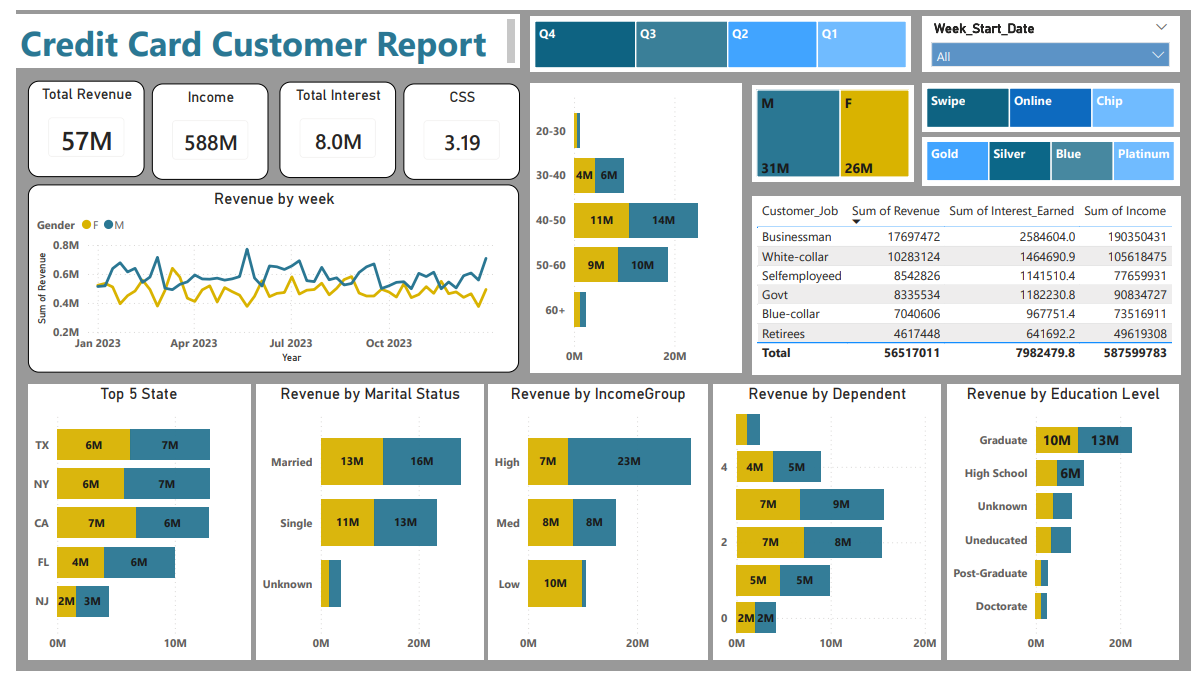

Layout of this report page (visuals, bound fields, positions):
{"tool":"powerbi","page":{"name":"CC customer","canvas":[1280,720],"ordinal":1},"visuals":[{"type":"textbox","box":[0,5,548.3,58.3],"z":0},{"type":"barChart","title":"Revenue by IncomeGroup","fields":{"Y":["Sum(ccdb cc_detail.Revenue)"],"Category":["ccdb cust_detail.IncomeGroup"],"Series":["ccdb cust_detail.Gender"]},"box":[515,408.3,239,300],"z":1000},{"type":"tableEx","title":"Revenue by week","fields":{"Values":["ccdb cust_detail.Customer_Job","Sum(ccdb cc_detail.Revenue)","Sum(ccdb cc_detail.Interest_Earned)","Sum(ccdb cust_detail.Income)"]},"box":[801.7,203.3,467,194],"z":2000},{"type":"cardVisual","title":"Total Revenue","fields":{"Data":["Sum(ccdb cc_detail.Revenue)"]},"box":[13.3,76.7,127,105],"z":3000},{"type":"cardVisual","title":"Income","fields":{"Data":["Sum(ccdb cust_detail.Income)"]},"box":[148.3,80,127,105],"z":4000},{"type":"cardVisual","title":"Total Interest","fields":{"Data":["Sum(ccdb cc_detail.Interest_Earned)"]},"box":[286.7,78.3,127,105],"z":5000},{"type":"cardVisual","title":"CSS","fields":{"Data":["Avg(ccdb cust_detail.Cust_Satisfaction_Score)"]},"box":[421.7,80,127,105],"z":6000},{"type":"slicer","fields":{"Values":["ccdb cc_detail.Week_Start_Date"]},"box":[986.7,6.7,280,61.7],"z":7000},{"type":"treemap","fields":{"Group":["ccdb cc_detail.Qtr"],"Values":["Avg(ccdb cc_detail.Client_Num)"]},"box":[560,6.7,415,61.7],"z":8000},{"type":"treemap","fields":{"Group":["ccdb cc_detail.Card_Category"],"Values":["Avg(ccdb cc_detail.Client_Num)"]},"box":[986.7,138.3,280,53],"z":9000},{"type":"lineChart","title":"Revenue by week","fields":{"Y":["Sum(ccdb cc_detail.Revenue)"],"Category":["ccdb cc_detail.Week_Start_Date.Variation.Date Hierarchy.Year","ccdb cc_detail.Week_Start_Date.Variation.Date Hierarchy.Quarter","ccdb cc_detail.Week_Start_Date.Variation.Date Hierarchy.Month","ccdb cc_detail.Week_Start_Date.Variation.Date Hierarchy.Day"],"Series":["ccdb cust_detail.Gender"]},"box":[13.3,190,535,205],"z":10000},{"type":"treemap","fields":{"Group":["ccdb cust_detail.Gender"],"Values":["Sum(ccdb cc_detail.Revenue)"]},"box":[801.7,81.7,176,105],"z":11000},{"type":"barChart","title":"Revenue by AgeGroup","fields":{"Y":["Sum(ccdb cc_detail.Revenue)"],"Category":["ccdb cust_detail.AgeGroup"],"Series":["ccdb cust_detail.Gender"]},"box":[560,80,230,315],"z":12000},{"type":"barChart","title":"Revenue by Dependent ","fields":{"Y":["Sum(ccdb cc_detail.Revenue)"],"Category":["ccdb cust_detail.Dependent_Count"],"Series":["ccdb cust_detail.Gender"]},"box":[760,408.3,248,300],"z":13000},{"type":"barChart","title":"Revenue by Education Level","fields":{"Y":["Sum(ccdb cc_detail.Revenue)"],"Category":["ccdb cust_detail.Education_Level"],"Series":["ccdb cust_detail.Gender"]},"box":[1015,408.3,251.7,300],"z":14000},{"type":"barChart","title":"Top 5 State","fields":{"Y":["Sum(ccdb cc_detail.Revenue)"],"Category":["ccdb cust_detail.State_cd"],"Series":["ccdb cust_detail.Gender"]},"box":[13.3,408.3,242,300],"z":15000},{"type":"barChart","title":"Revenue by Marital Status","fields":{"Y":["Sum(ccdb cc_detail.Revenue)"],"Category":["ccdb cust_detail.Marital_Status"],"Series":["ccdb cust_detail.Gender"]},"box":[261.7,408.3,248,300],"z":16000},{"type":"treemap","fields":{"Group":["ccdb cc_detail.Use_Chip"],"Values":["Avg(ccdb cc_detail.Client_Num)"]},"box":[986.7,80,280,53.3],"z":17000}]}

Visuals, with their boxes in screenshot pixels (x1, y1, x2, y2), scaled from the page's 1280x720 canvas onto the 1203x680 screenshot:
textbox: <box>0,5,515,60</box>
"Revenue by IncomeGroup" barChart: <box>484,386,709,669</box>
"Revenue by week" tableEx: <box>753,192,1192,375</box>
"Total Revenue" cardVisual: <box>12,72,132,172</box>
"Income" cardVisual: <box>139,76,259,175</box>
"Total Interest" cardVisual: <box>269,74,389,173</box>
"CSS" cardVisual: <box>396,76,516,175</box>
slicer - ccdb cc_detail.Week_Start_Date: <box>927,6,1191,65</box>
treemap - ccdb cc_detail.Qtr x Avg(ccdb cc_detail.Client_Num): <box>526,6,916,65</box>
treemap - ccdb cc_detail.Card_Category x Avg(ccdb cc_detail.Client_Num): <box>927,131,1191,181</box>
"Revenue by week" lineChart: <box>12,179,515,373</box>
treemap - ccdb cust_detail.Gender x Sum(ccdb cc_detail.Revenue): <box>753,77,919,176</box>
"Revenue by AgeGroup" barChart: <box>526,76,742,373</box>
"Revenue by Dependent " barChart: <box>714,386,947,669</box>
"Revenue by Education Level" barChart: <box>954,386,1191,669</box>
"Top 5 State" barChart: <box>12,386,240,669</box>
"Revenue by Marital Status" barChart: <box>246,386,479,669</box>
treemap - ccdb cc_detail.Use_Chip x Avg(ccdb cc_detail.Client_Num): <box>927,76,1191,126</box>
